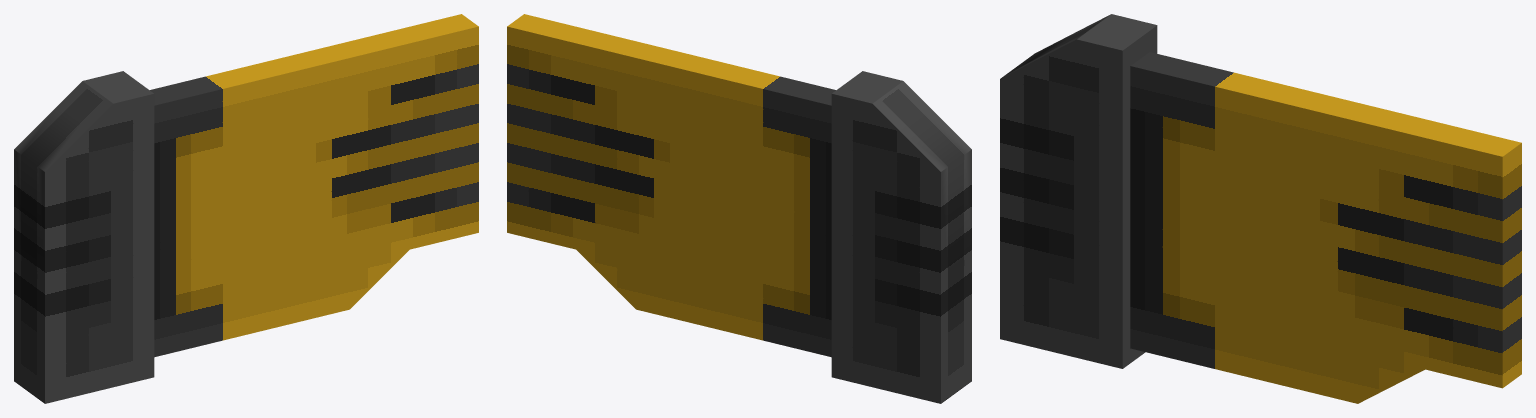
File: keycard.fbx
3 renders of one model, left to right at view 1: azimuth 30°, elevation 25°; view 2: azimuth 150°, elevation 25°; view 3: azimuth 330°, elevation 25°, orthographic. The views are drawn at different scales.
Parts seen in each view (by area): view 1: pCube6; view 2: pCube6; view 3: pCube6.
Part boxes in pixels (x1,y1,x2,y2): pCube6: (14, 14, 478, 403); pCube6: (507, 14, 971, 403); pCube6: (1000, 14, 1521, 403).
Bounding box in the file's own units: 9.61 × 5.91 × 1.17.
